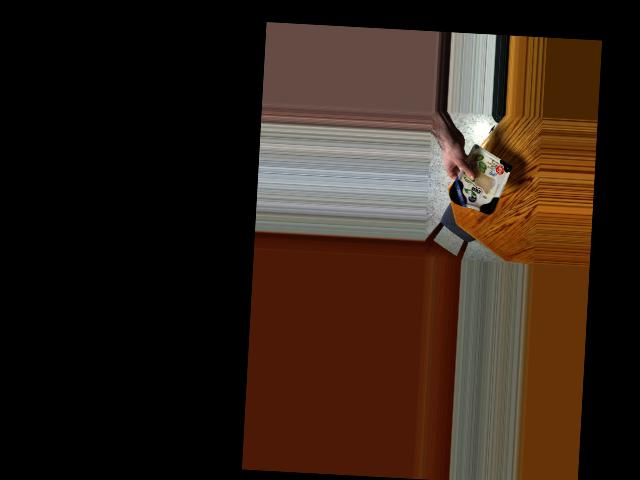cheese: (450, 154, 509, 218)
